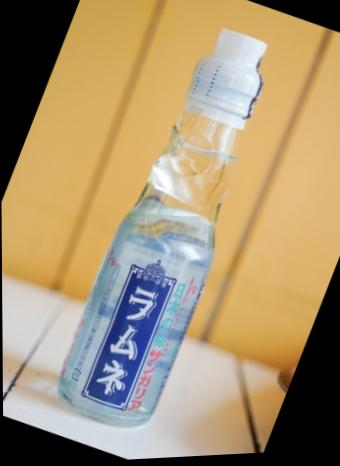glass: (29, 0, 316, 449)
